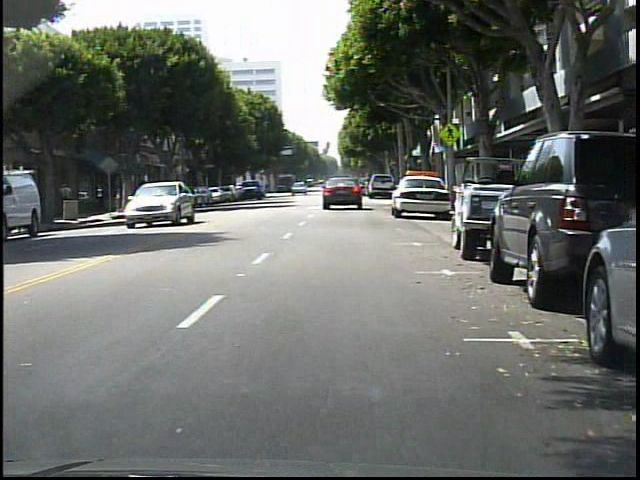person: (58, 179, 77, 221)
